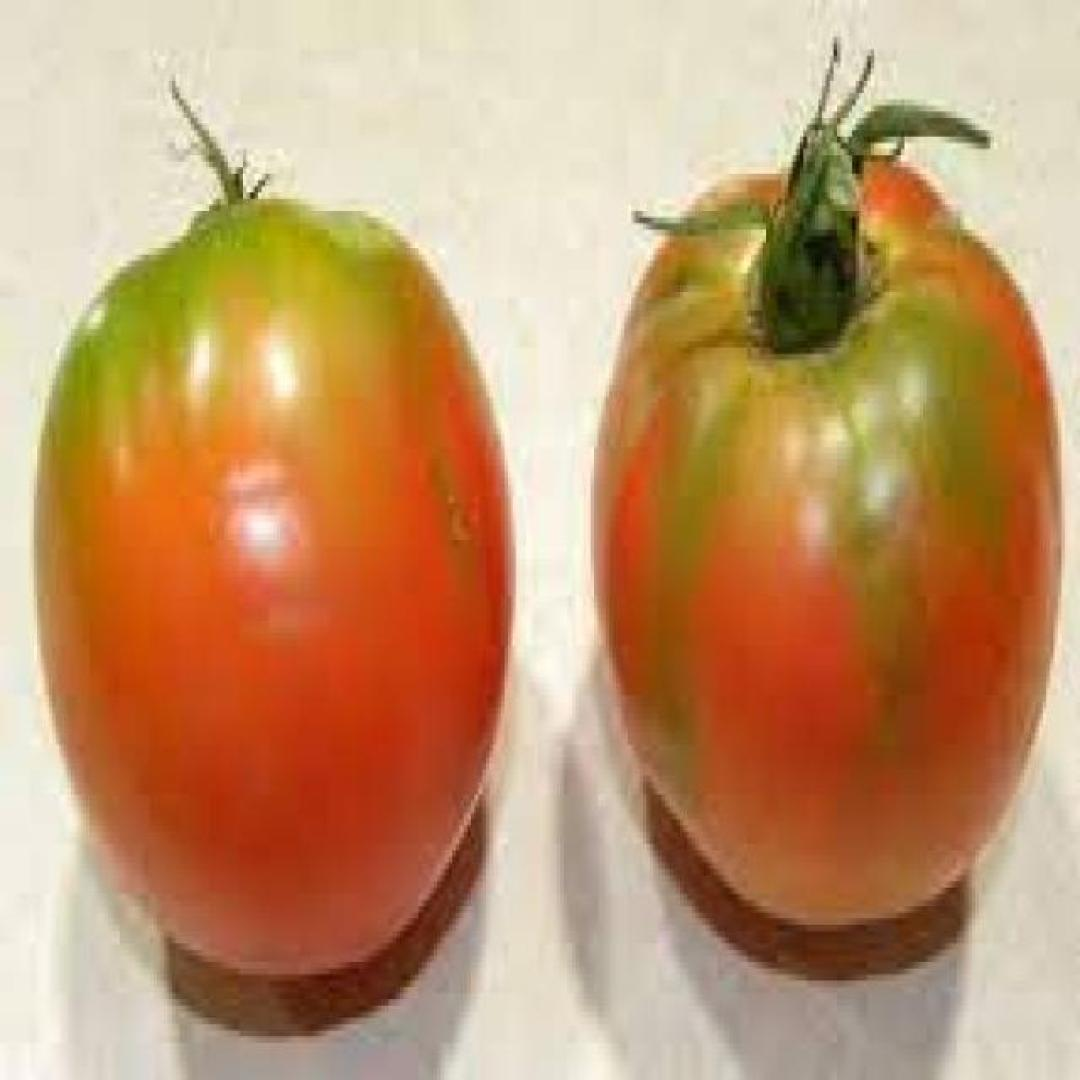setengah_matang: (25, 186, 520, 981), (587, 136, 1065, 932)
